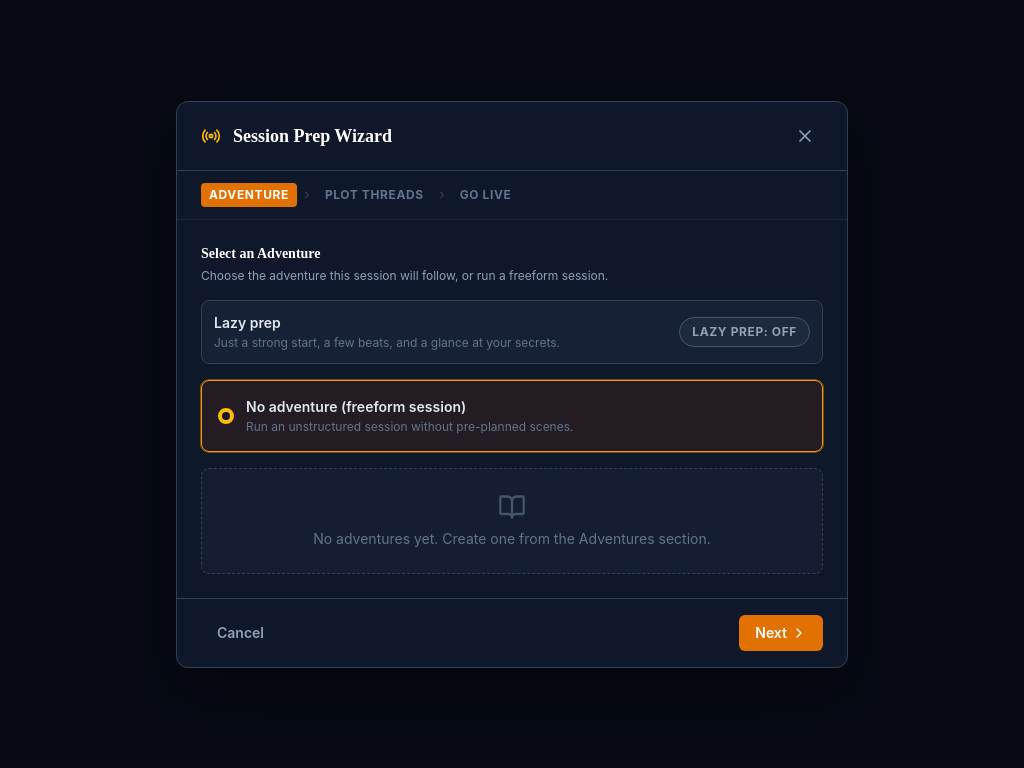
it: Scene Menu Generator — "Add N" keeps only what is checked › adds in ADDITION to hand-typed beats, never instead of them
The width and height of the screenshot is (1024, 768).
Click the button "Lazy prep: off": (745, 332) x1=679 y1=316 x2=810 y2=346
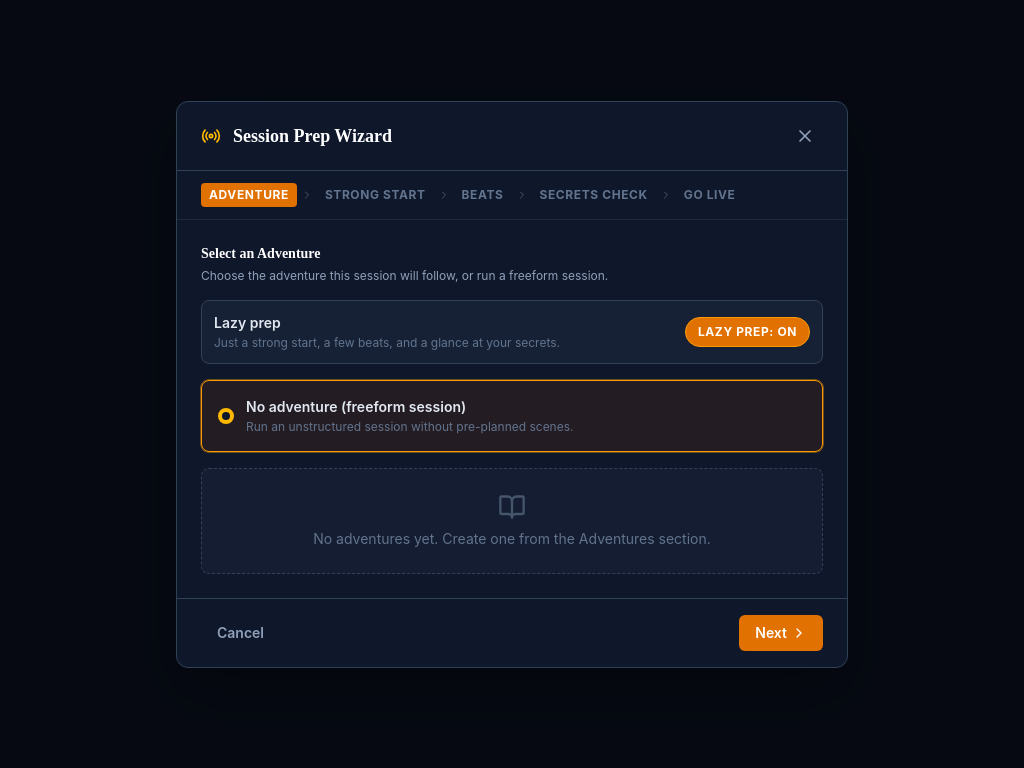
Click the button "Beats": (483, 194) x1=454 y1=182 x2=512 y2=206
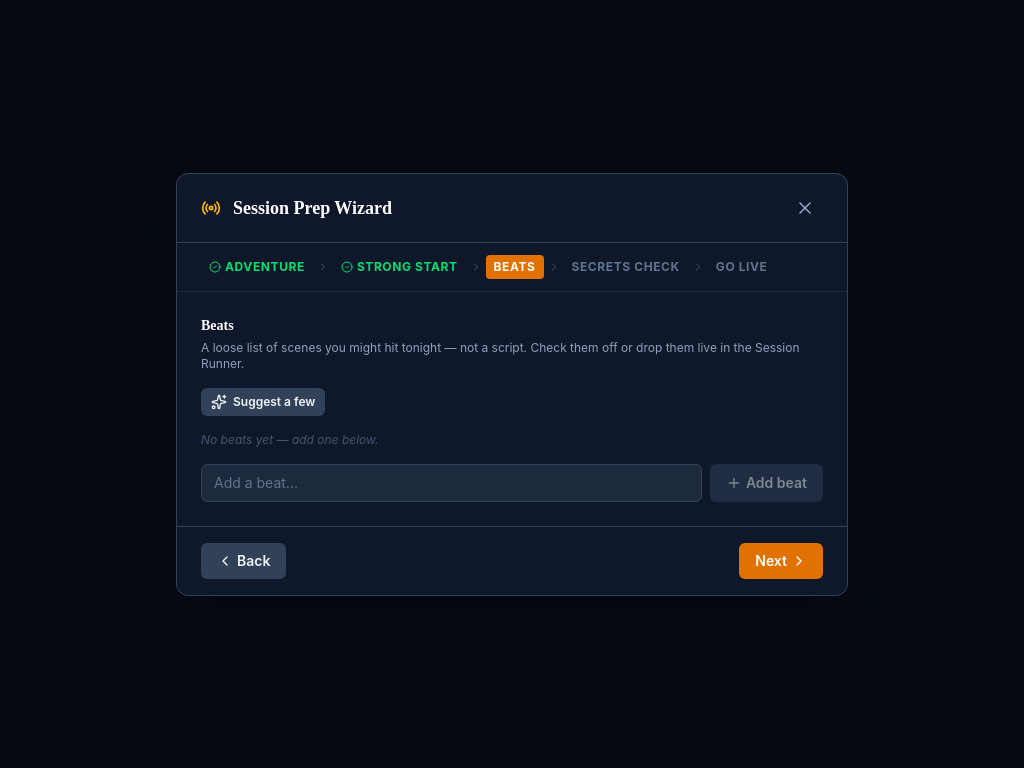
In the field labelled "Add a beat...": (451, 482) x1=201 y1=464 x2=702 y2=502, type "Hand-typed beat"
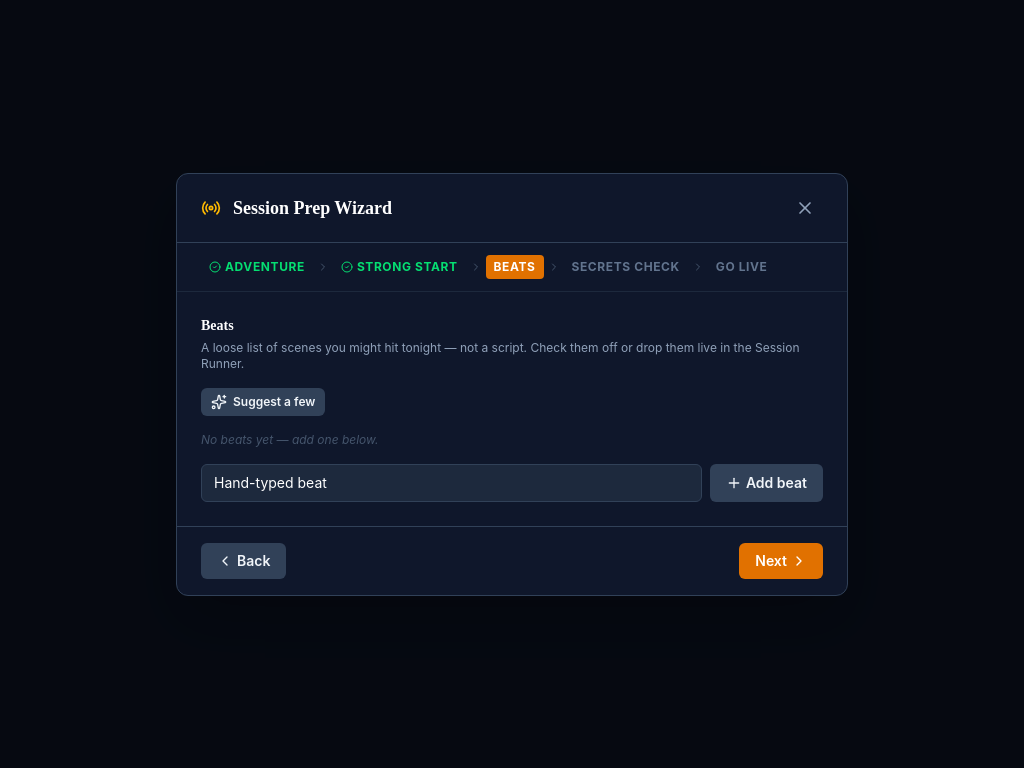
Click the button "Add beat": (766, 482) x1=710 y1=464 x2=823 y2=502
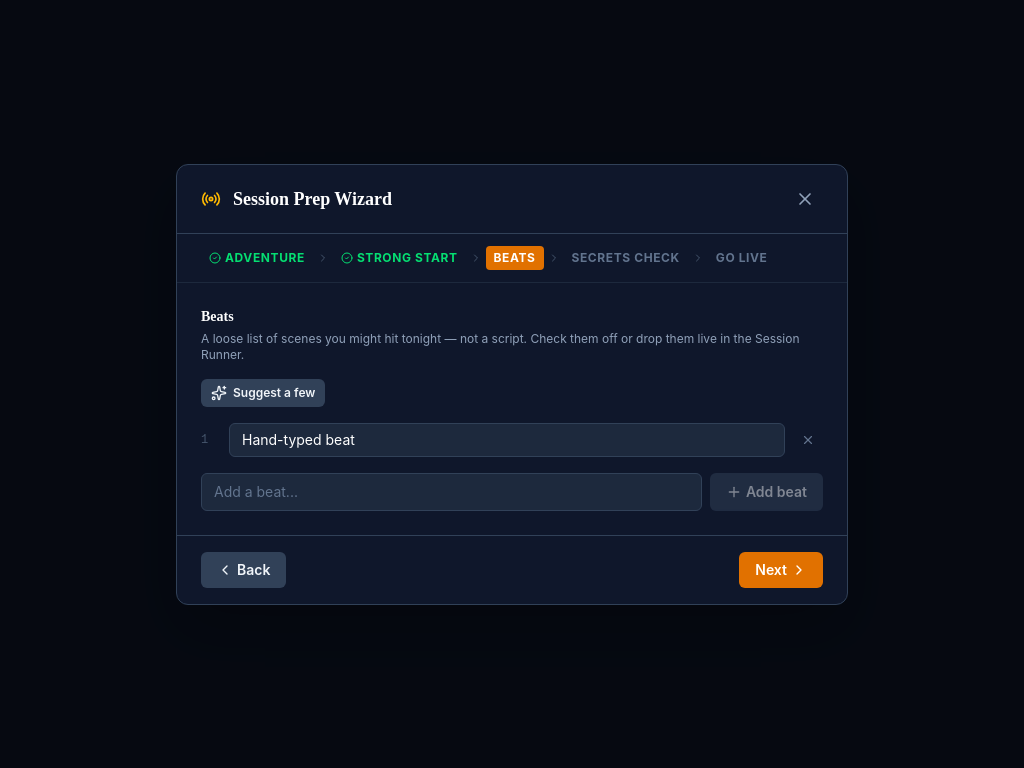
Check: the number of fields named "Beat 1" is 1, box x1=229 y1=422 x2=785 y2=456
Click the button "Suggest a few": (263, 392) x1=201 y1=378 x2=325 y2=406
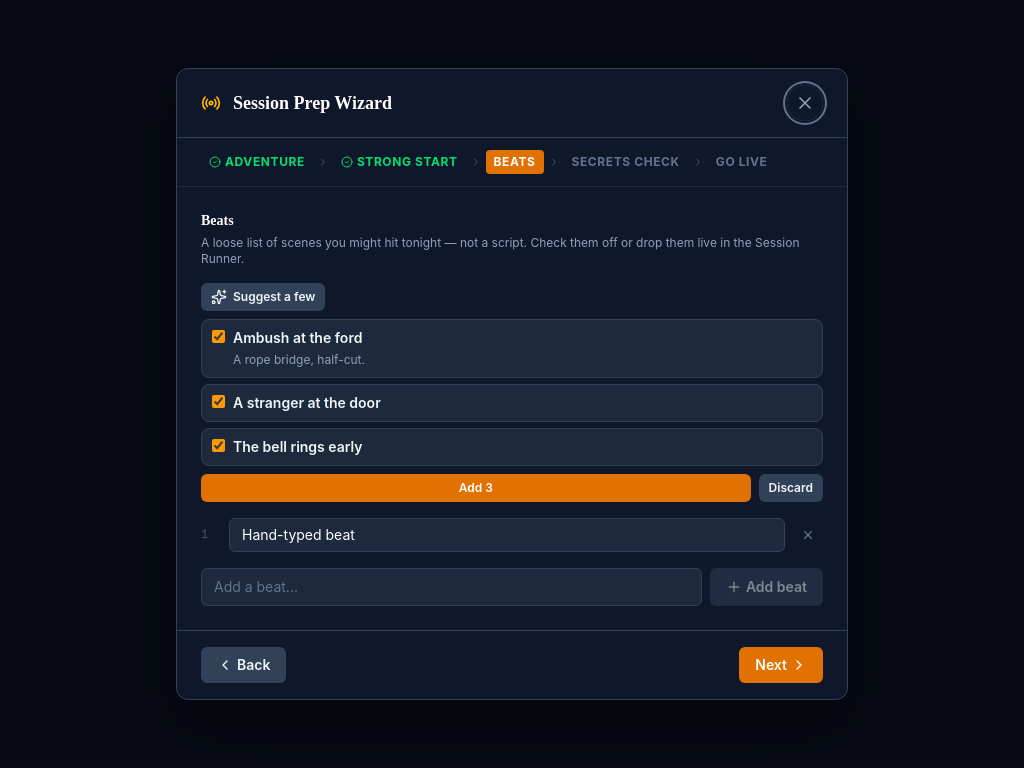
Check: the checkbox labelled "Ambush at the ford" is shown, box x1=212 y1=330 x2=225 y2=343
Click the button "Add 3": (476, 488) x1=201 y1=474 x2=751 y2=502
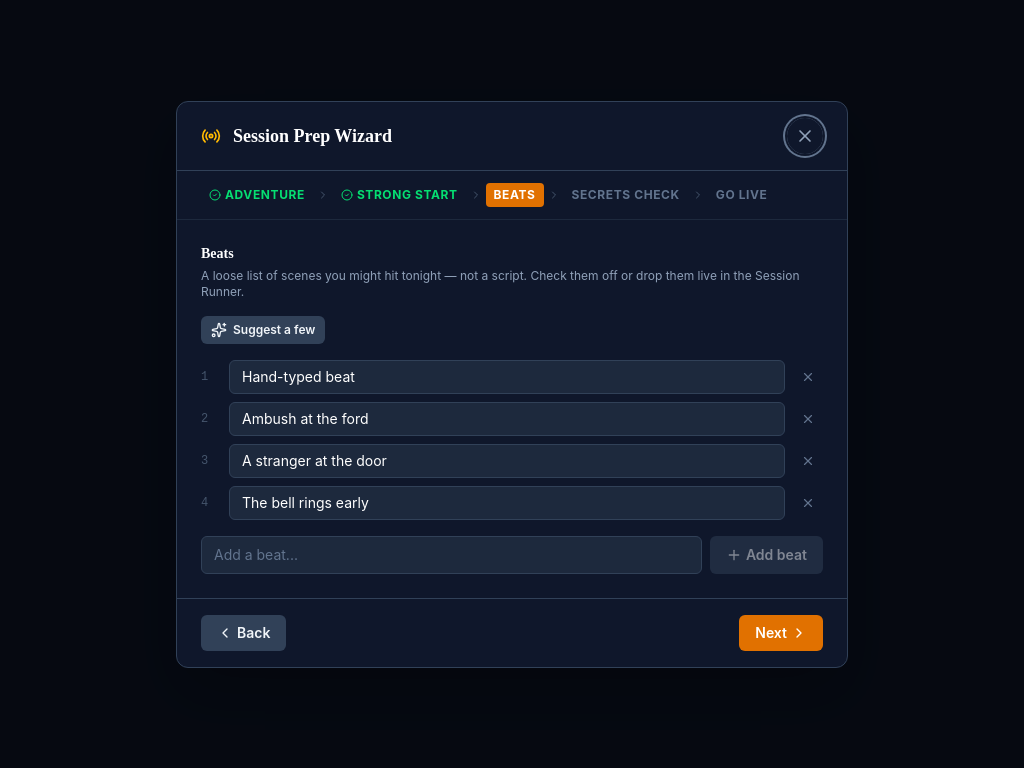
Check: the field named "Beat 1" holds "Hand-typed beat", box x1=229 y1=360 x2=785 y2=394
Check: the number of fields named "Beat 1" is 4, box x1=229 y1=360 x2=785 y2=394; x1=229 y1=402 x2=785 y2=436; x1=229 y1=444 x2=785 y2=478; x1=229 y1=486 x2=785 y2=520
